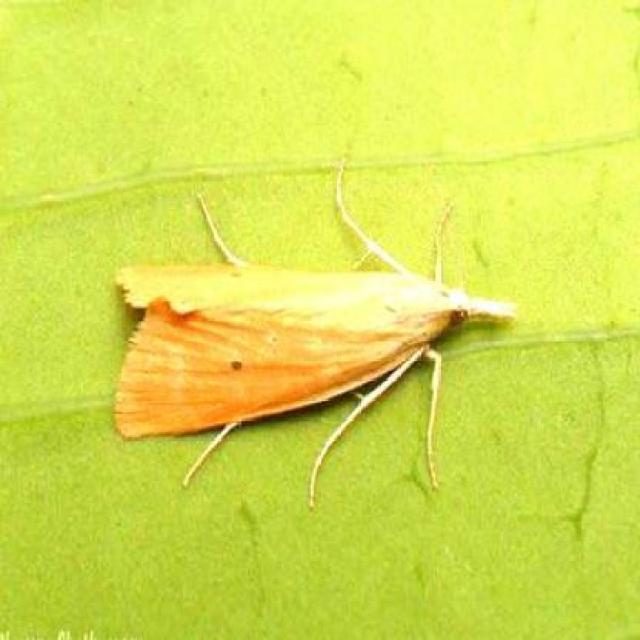stem-borer: (110, 232, 524, 458)
